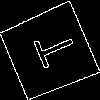T: (24, 26, 79, 73)
